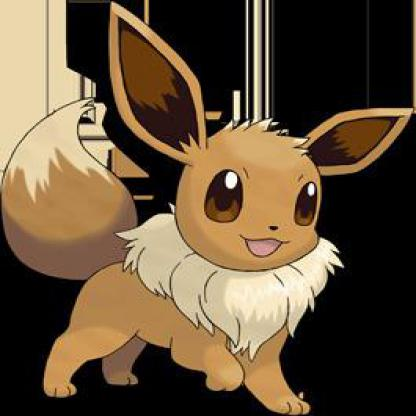Eevee: (1, 2, 416, 416)
